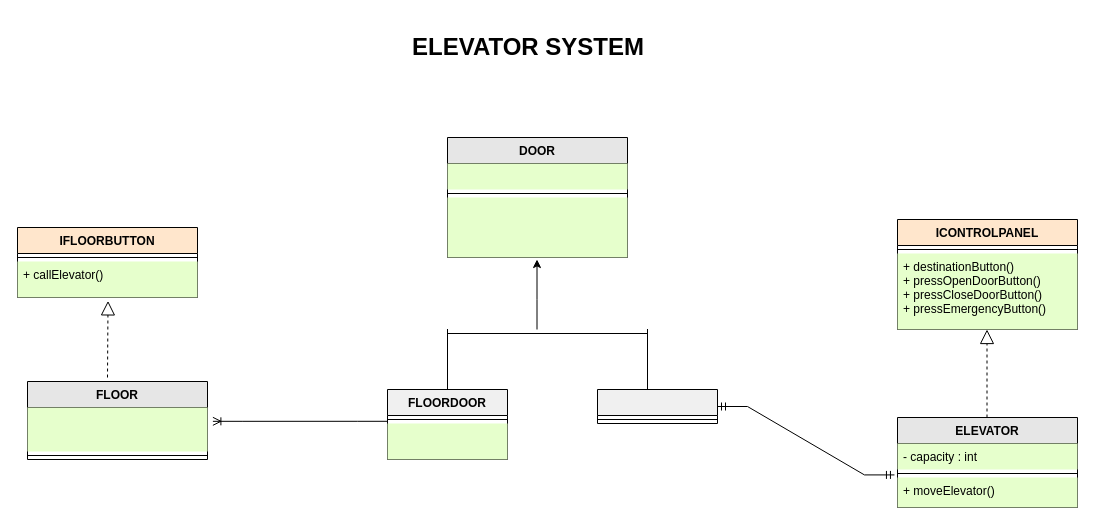
Some shapes in this 1095 by 527 pixel diagram are drawn without their labels. The shapes that lost their labels are listed below. From the top down, each one's centre as x and y in pixels, then its label:
(x=537, y=176): - openingTime : time
(x=537, y=227): + openDoor() + closeDoor() + automaticTime(openingTime)
(x=657, y=406): ELEVATORDOOR
(x=117, y=429): - floorNumber : int - floorDoor : object
(x=447, y=441): + signalLamp() + arrivaBell()
